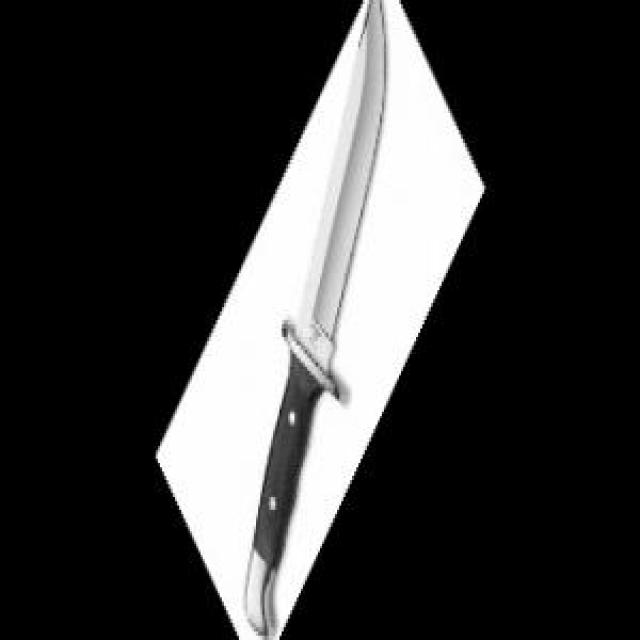knife: (237, 0, 387, 638)
